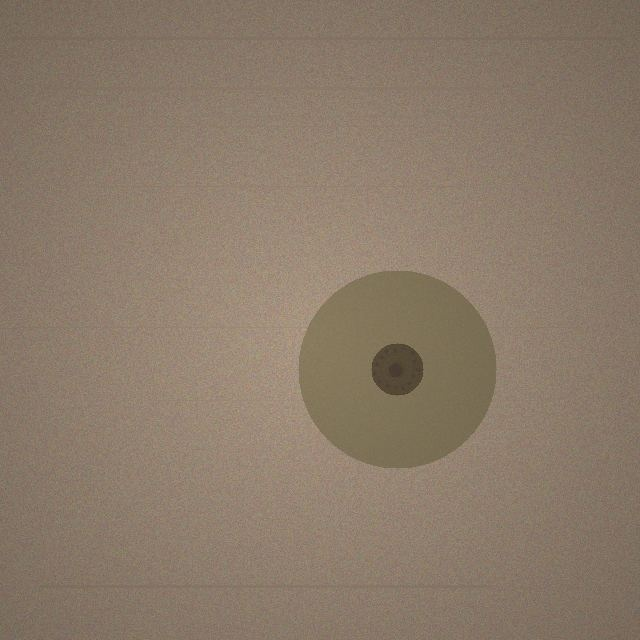cold_weld: (298, 270, 496, 468)
